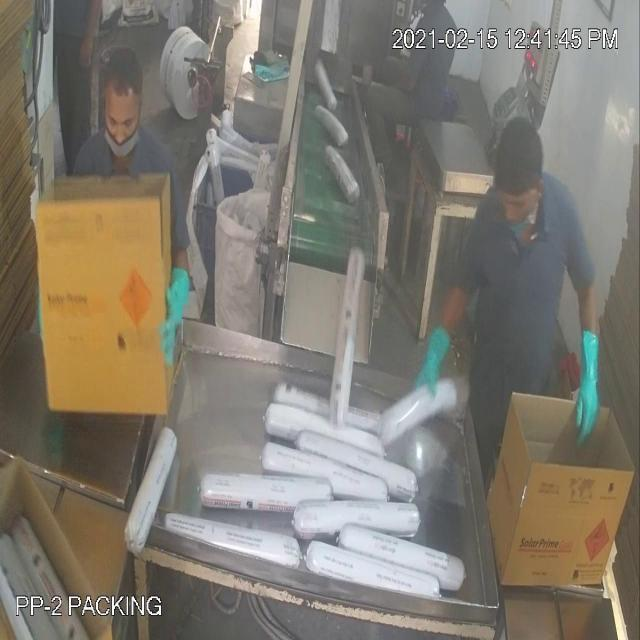Gloves: (37, 90, 586, 394)
